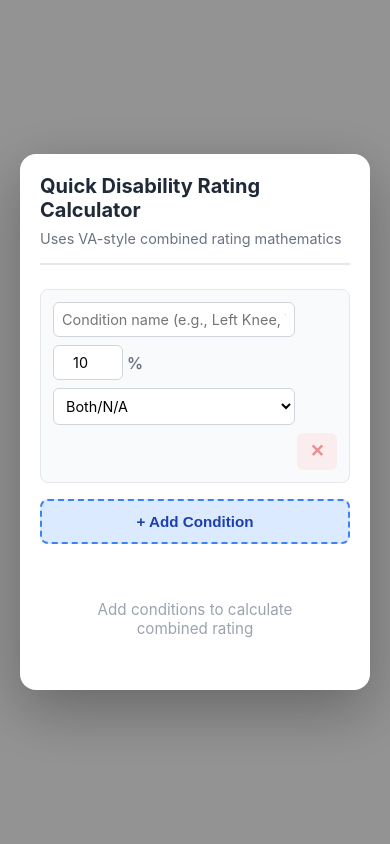
Scenario: DisabilityCalculator Component › Adding Conditions › can add multiple conditions
Click the button "+ Add Condition": (195, 522) [40,499,350,544]
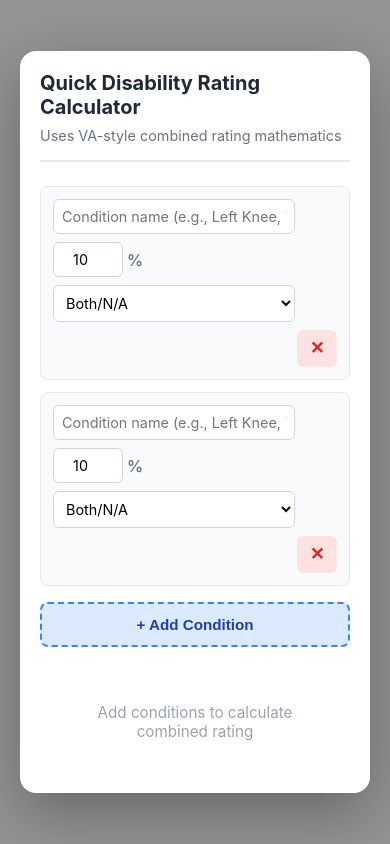
Click the button "+ Add Condition": (195, 624) [40,602,350,647]
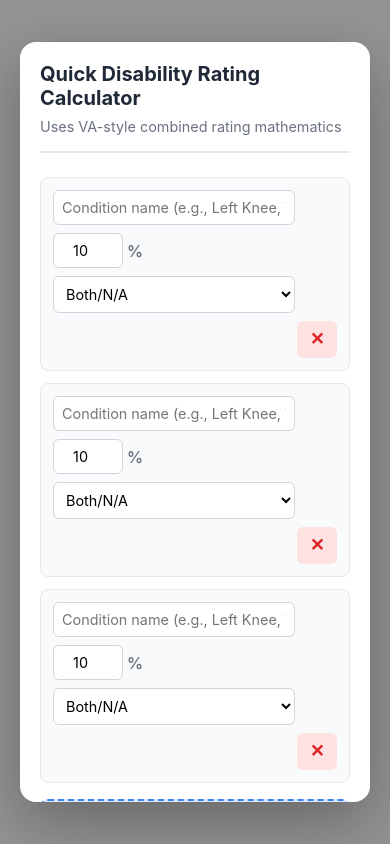
Expected: the number of fields with placeholder "Condition name (e.g., Left Knee, Tinnitus)" is 3, [53,190,295,225]; [53,396,295,431]; [53,602,295,637]
